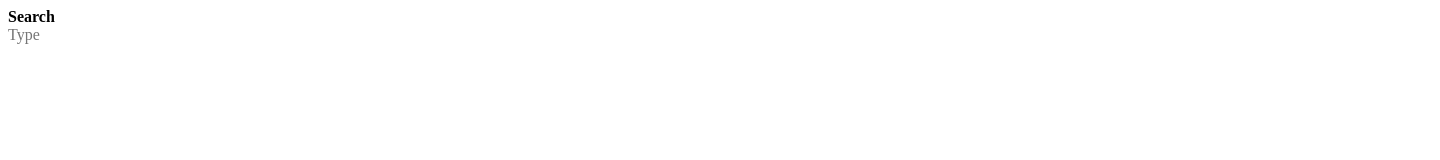
Test: PlaceSearch › works from the keyboard: arrows move, Enter picks, Escape closes
Later steps or results of the test are not shown.
Type "kilim" into the dropdown labelled "Search".
click(720, 35); type("kilim")  # box x1=8 y1=26 x2=1432 y2=44
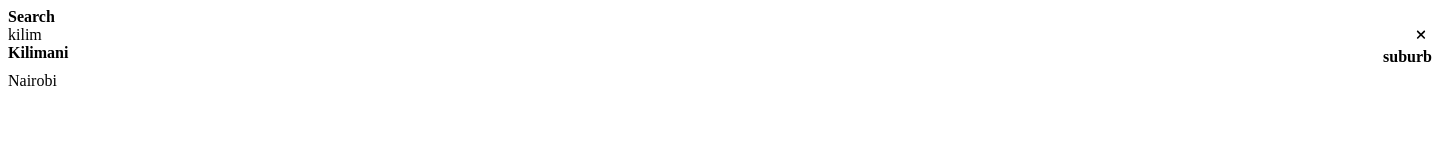
Expected: the option "Kilimani suburb Nairobi" is shown, x1=8 y1=44 x2=1432 y2=90
Press Arrowdown
Press Enter
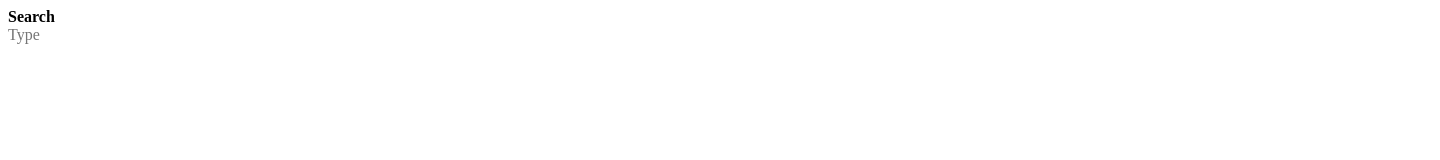
Type "kilim" into the dropdown labelled "Search".
click(720, 35); type("kilim")  # box x1=8 y1=26 x2=1432 y2=44
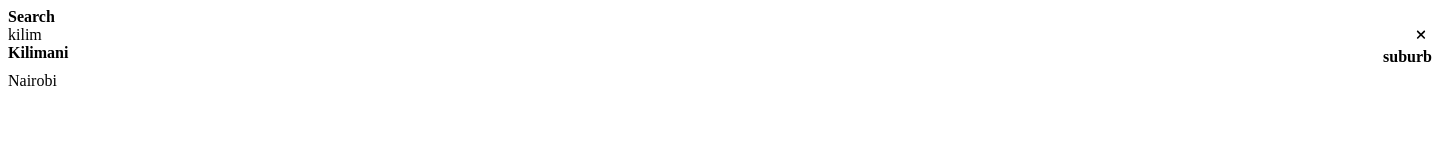
Expected: the option "Kilimani suburb Nairobi" is shown, x1=8 y1=44 x2=1432 y2=90
